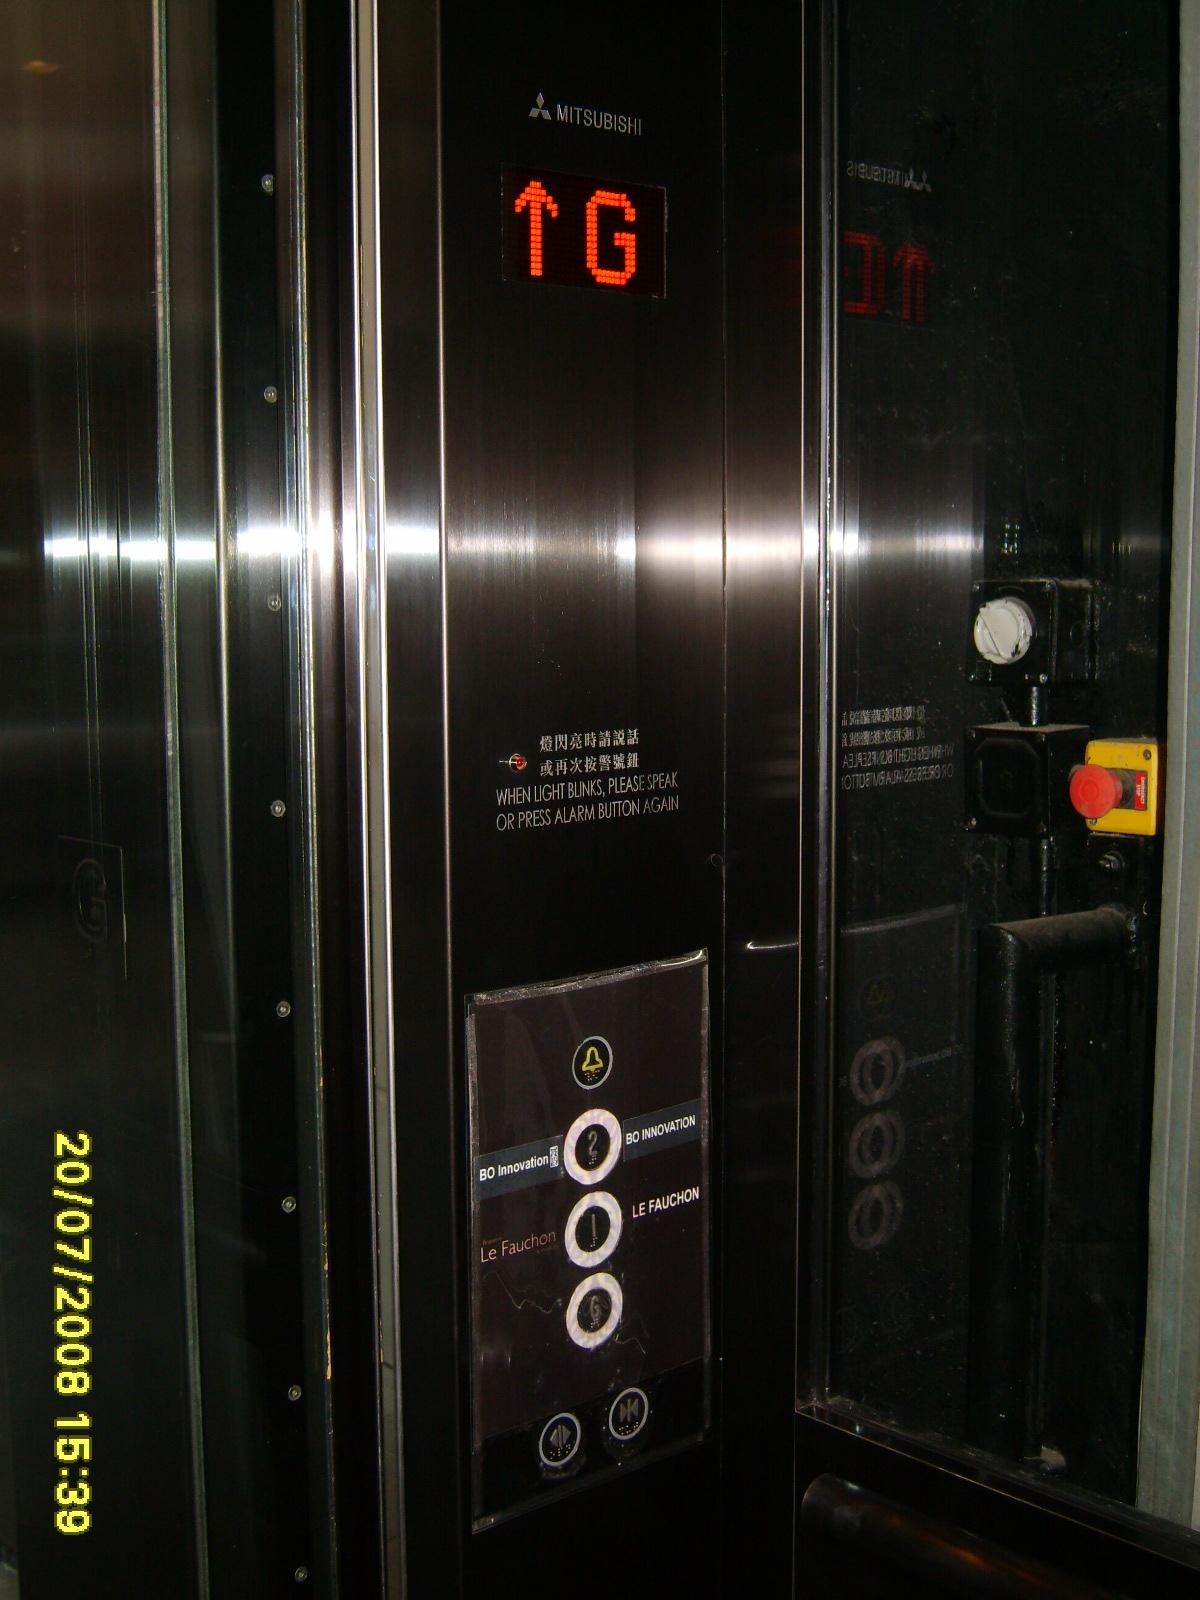1: (563, 1189, 624, 1267)
2: (560, 1107, 623, 1186)
G: (563, 1272, 626, 1351)
alarm: (570, 1034, 614, 1089)
close: (608, 1386, 650, 1441)
led: (492, 154, 674, 315), (829, 210, 966, 335)
open: (537, 1411, 582, 1466)
unknown: (961, 718, 1092, 842), (1068, 736, 1166, 843), (968, 578, 1058, 687)
